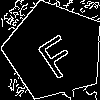F: (29, 26, 82, 81)
